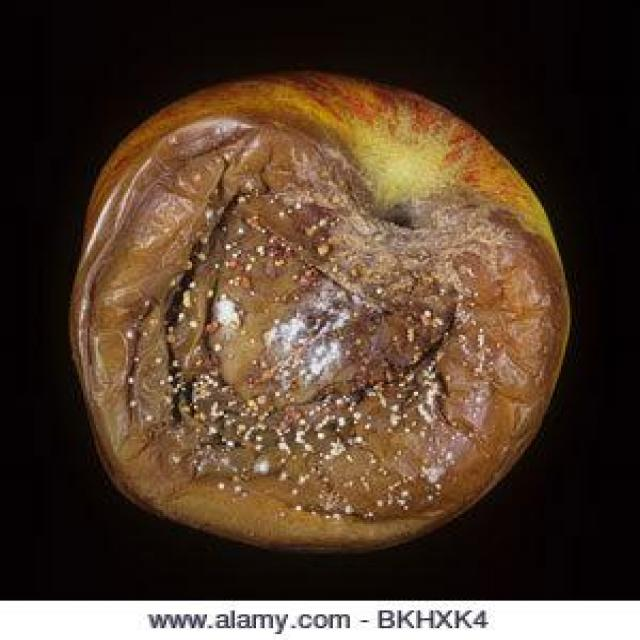Rotten: (79, 72, 549, 537)
